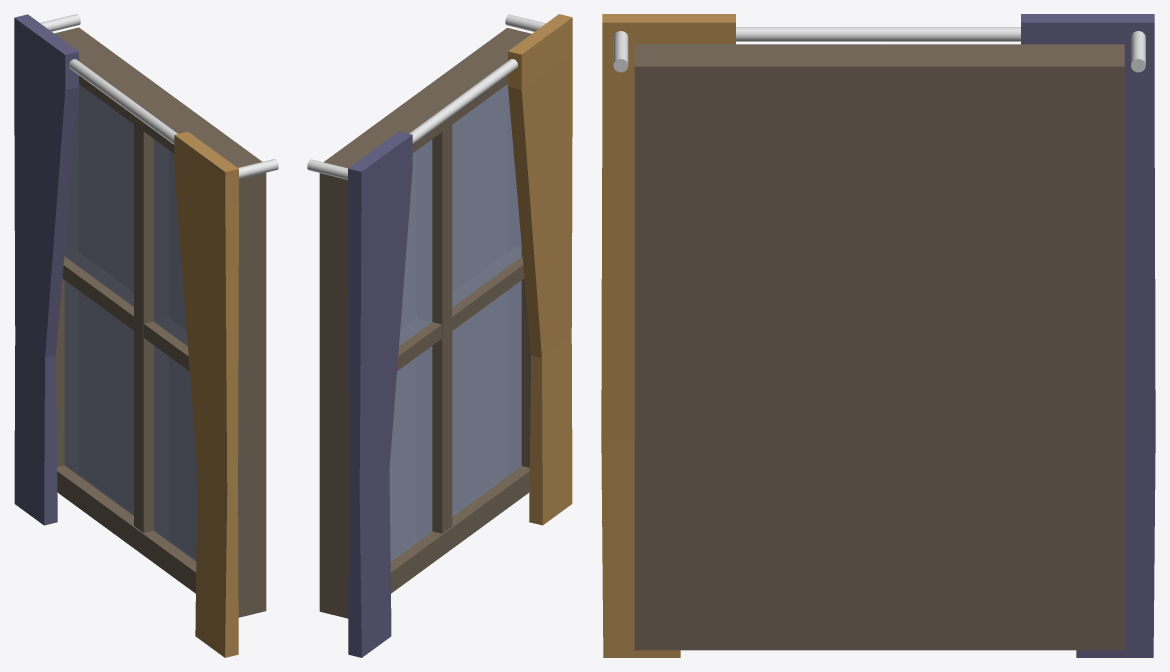
File: fenetre_02.fbx
3 views of the same model, side by side, from view 1: azimuth 30°, elevation 25°; view 2: azimuth 150°, elevation 25°; view 3: azimuth 270°, elevation 25° (orthographic). The views are drawn at different scales.
Parts seen in each view (by area): view 1: pasted__pCube14, pasted__pasted__pCube15, pasted__pCube15, pasted__pasted__pCube14, pasted__pasted__pCube16, pasted__pCylinder20, pasted__pasted__pasted__pCylinder20, pasted__pasted__pCylinder20; view 2: pasted__pCube14, pasted__pCube15, pasted__pasted__pCube15, pasted__pasted__pCube14, pasted__pasted__pCube16, pasted__pCylinder20, pasted__pasted__pCylinder20, pasted__pasted__pasted__pCylinder20; view 3: pasted__pCube14, pasted__pasted__pCube15, pasted__pCube15, pasted__pCylinder20.
Part boxes in pixels (box(x1,y1,x2,y2)): pasted__pCube14: box(54, 27, 266, 617); pasted__pasted__pCube15: box(174, 131, 238, 657); pasted__pCube15: box(14, 14, 78, 525); pasted__pasted__pCube14: box(134, 124, 153, 532); pasted__pasted__pCube16: box(62, 256, 189, 370); pasted__pCylinder20: box(69, 59, 177, 144); pasted__pasted__pasted__pCylinder20: box(238, 159, 278, 178); pasted__pasted__pCylinder20: box(40, 14, 80, 31); pasted__pCube14: box(319, 28, 531, 618); pasted__pCube15: box(348, 131, 412, 657); pasted__pasted__pCube15: box(508, 14, 572, 525); pasted__pasted__pCube14: box(432, 125, 452, 533); pasted__pasted__pCube16: box(397, 256, 524, 371); pasted__pCylinder20: box(409, 59, 517, 144); pasted__pasted__pCylinder20: box(307, 159, 347, 179); pasted__pasted__pasted__pCylinder20: box(505, 14, 545, 31); pasted__pCube14: box(634, 44, 1124, 650); pasted__pasted__pCube15: box(601, 14, 735, 657); pasted__pCube15: box(1021, 14, 1155, 657); pasted__pCylinder20: box(736, 27, 1020, 41).
Size of the model in its own units: 1.06 by 8.56 by 6.77.
